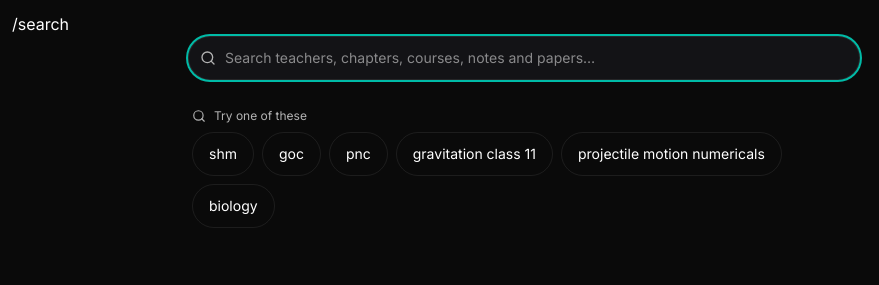
Test: grouped results (the five groups) › shows a YouTube thumbnail beside lecture results
Type "relative motion" into the dropdown at (524, 58), box [188, 36, 860, 80]
Wait 295 ms
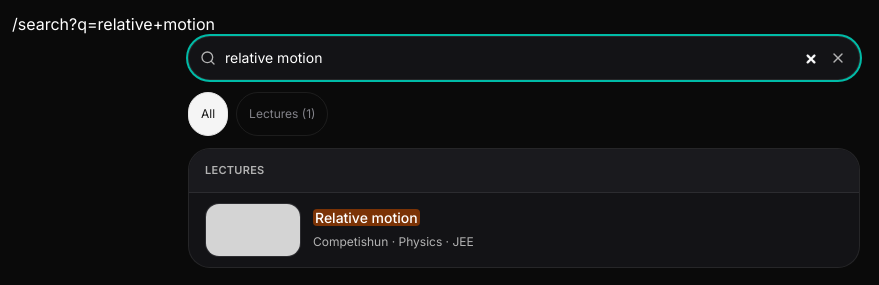
expect the text "Relative motion" is shown: met, box [313, 209, 420, 226]
